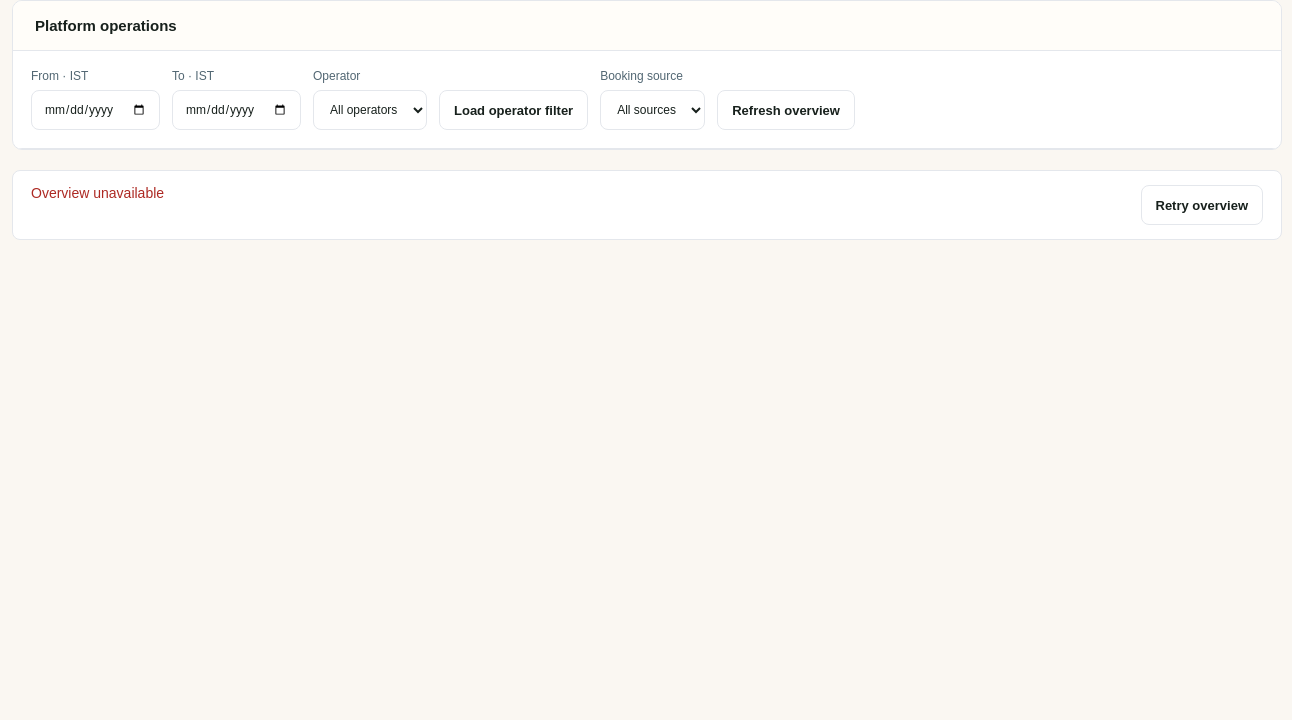
shows genuine gross value separately from zero authorized platform earnings and recovers an overview failure
The image size is (1292, 720).
Click the button "Retry overview": (1202,205) [1140, 185, 1263, 225]
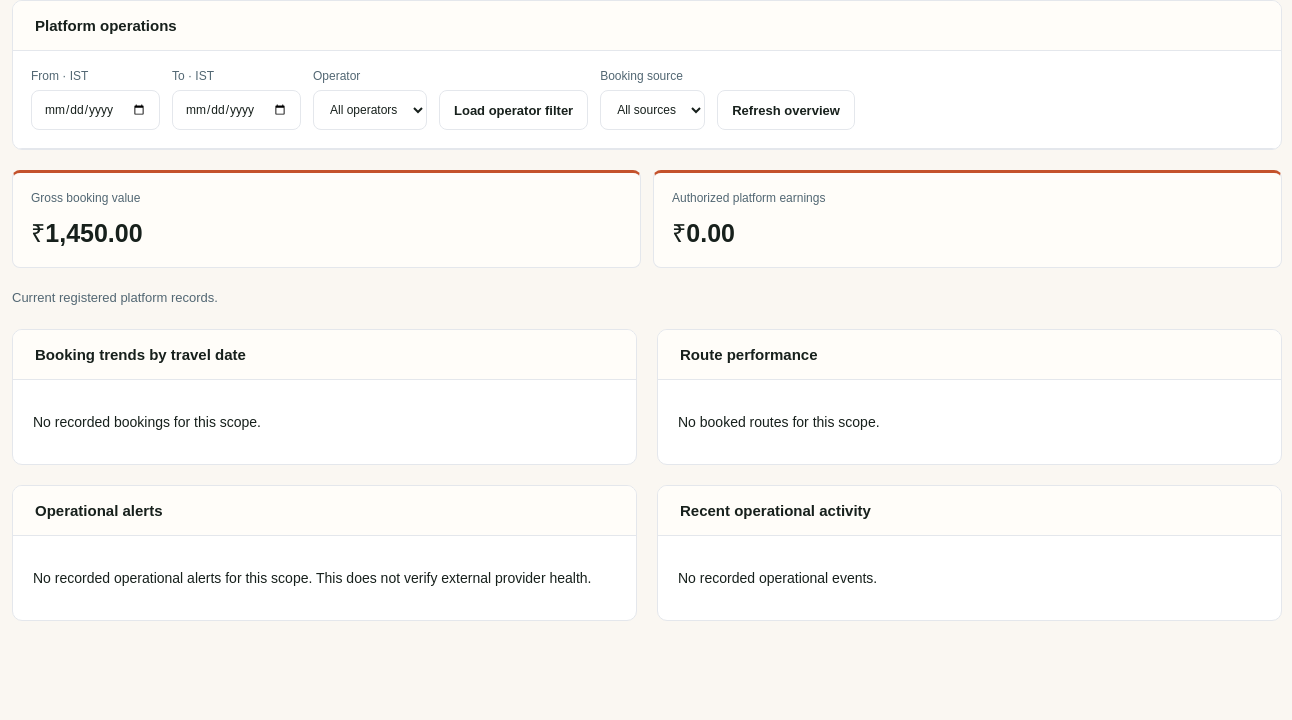
Expected: the text "₹1,450.00" is shown, [31, 219, 143, 247]
Expected: the text "₹0.00" is shown, [672, 219, 735, 247]
Expected: the text "Authorized platform earnings" is shown, [672, 191, 825, 205]
